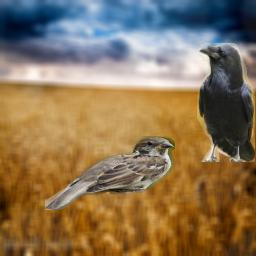Crow: (197, 43, 255, 162)
Sparrow: (45, 136, 175, 210)
